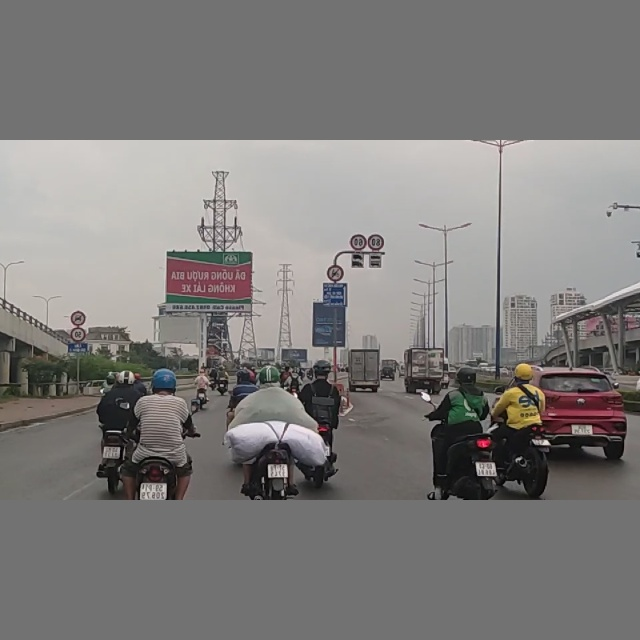P.103a: (71, 312, 85, 325)
P.104: (327, 265, 345, 281)
P.127*50: (71, 328, 85, 343)
P.127*60: (351, 235, 365, 250)
P.127*80: (369, 234, 385, 250)
